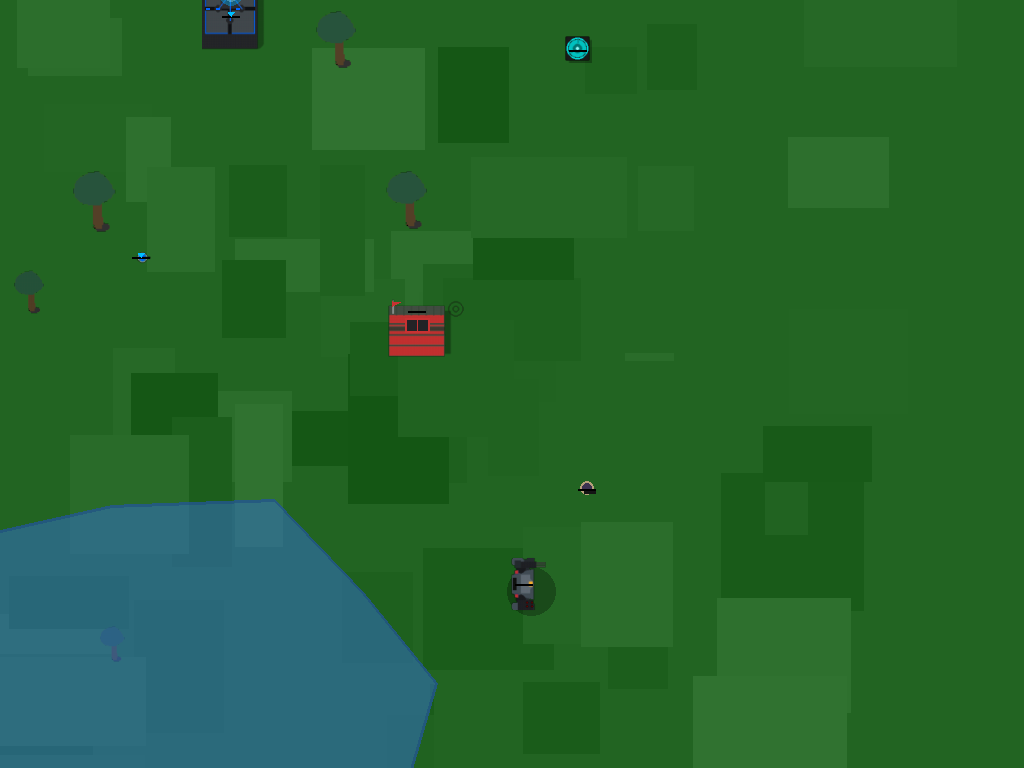Barracks: (380, 273, 454, 347)
HeavyMech: (503, 562, 544, 603)
Lake: (0, 500, 436, 768)
LaserTurret: (557, 27, 600, 70)
ResearchCenter: (197, 0, 265, 68)
Rifleman: (128, 243, 154, 269)
RocketTrooper: (573, 474, 601, 502)
